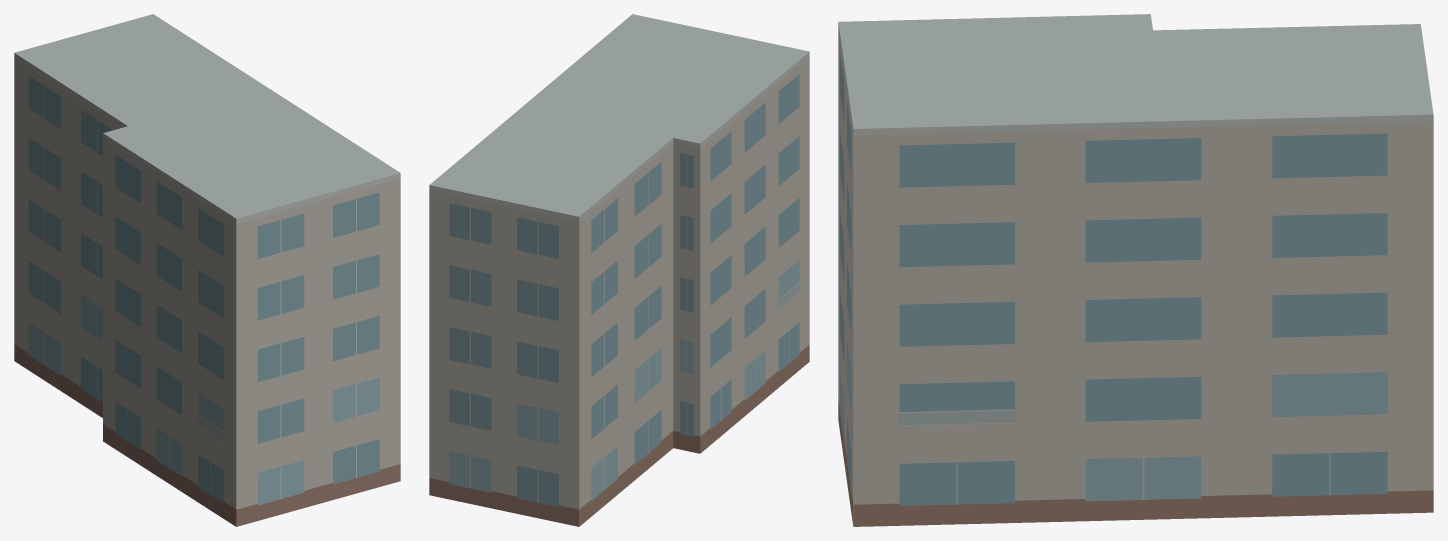
Rendered from survey-upis-33025205.glb.
The picture shows the model from 3 angles, left to right: view 1: azimuth 30°, elevation 25°; view 2: azimuth 150°, elevation 25°; view 3: azimuth 270°, elevation 25°; orthographic projection. The views are drawn at different scales.
Visible parts, largest first — view 1: survey-upis-33025205.tmp; view 2: survey-upis-33025205.tmp; view 3: survey-upis-33025205.tmp.
Boxes of the visible parts, x1=… form: survey-upis-33025205.tmp: x1=14, y1=14, x2=400, y2=526; survey-upis-33025205.tmp: x1=429, y1=14, x2=809, y2=526; survey-upis-33025205.tmp: x1=838, y1=14, x2=1433, y2=526.
Bounding box in the file's own units: 9.21 × 14.85 × 20.14.
